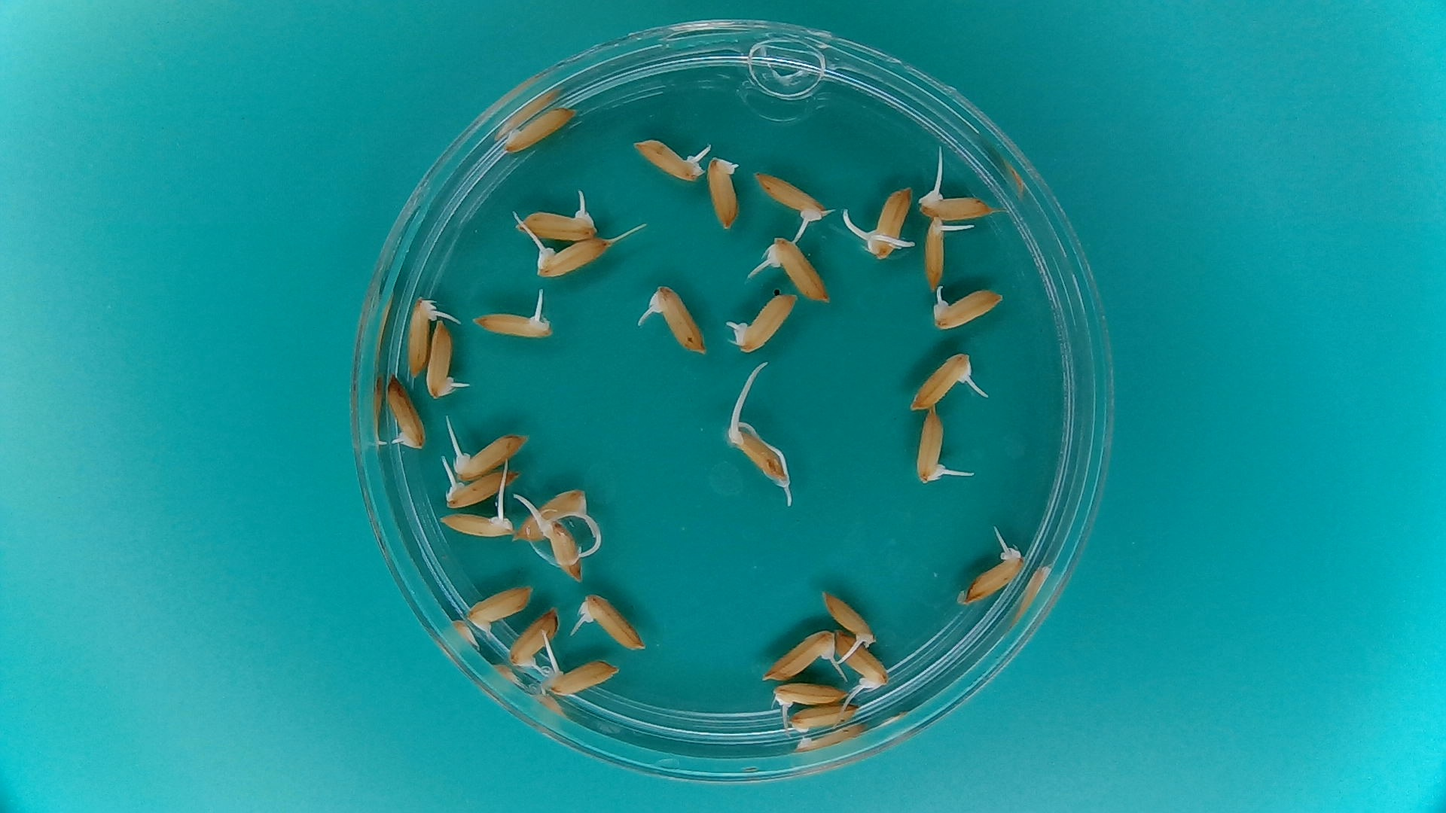no: (502, 105, 575, 155), (465, 581, 535, 633), (705, 151, 743, 234), (786, 705, 861, 734)
yes: (765, 235, 831, 305), (905, 354, 978, 413), (733, 288, 800, 351), (761, 627, 837, 682), (580, 592, 647, 653), (647, 289, 706, 358), (630, 133, 710, 182), (727, 423, 786, 489), (754, 171, 825, 223), (515, 489, 587, 540), (529, 236, 614, 279), (864, 187, 914, 260), (928, 285, 1007, 331), (962, 546, 1026, 602), (451, 431, 526, 477), (404, 293, 444, 378), (468, 305, 556, 342), (823, 587, 879, 645), (508, 607, 560, 668), (511, 203, 593, 241), (385, 374, 426, 449), (835, 635, 890, 690), (441, 469, 514, 509), (547, 658, 622, 696), (541, 517, 584, 583), (426, 320, 461, 400), (913, 408, 950, 483), (438, 504, 512, 540), (768, 680, 849, 712), (922, 216, 956, 291), (914, 188, 989, 221)
